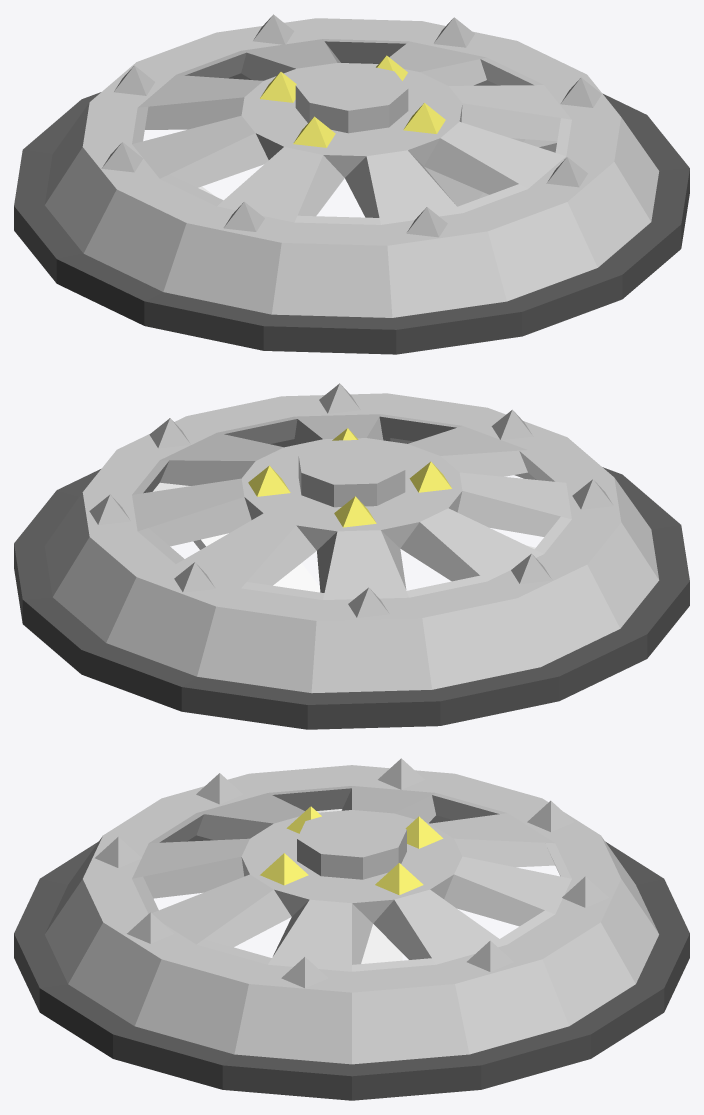
Rendered from Shield_22_d_metal.fbx.
The picture shows the model from 3 angles, top to bottom: view 1: azimuth 30°, elevation 25°; view 2: azimuth 150°, elevation 25°; view 3: azimuth 270°, elevation 25°; orthographic projection.
Visible parts, largest first — view 1: Circle.189, Circle.172, Cone.276, Plane.149, Cone.268, Cone.265, Cone.267; view 2: Circle.189, Circle.172, Cone.276, Plane.149, Cone.268, Cone.267, Cone.266; view 3: Circle.189, Circle.172, Cone.276, Plane.149, Cone.265, Cone.266, Cone.267.
Boxes of the visible parts, <box> form: Circle.189: <box>45,18,659,317</box>; Circle.172: <box>14,92,689,354</box>; Cone.276: <box>102,14,601,237</box>; Plane.149: <box>198,138,557,206</box>; Cone.268: <box>293,116,335,147</box>; Cone.265: <box>403,103,445,133</box>; Cone.267: <box>260,72,296,102</box>; Circle.189: <box>44,393,659,693</box>; Circle.172: <box>14,467,689,729</box>; Cone.276: <box>89,383,613,617</box>; Plane.149: <box>153,482,535,592</box>; Cone.268: <box>409,461,451,492</box>; Cone.267: <box>334,496,376,527</box>; Cone.266: <box>248,465,290,496</box>; Circle.189: <box>45,765,658,1064</box>; Circle.172: <box>14,841,689,1100</box>; Cone.276: <box>95,758,608,987</box>; Plane.149: <box>316,809,402,963</box>; Cone.265: <box>260,853,308,885</box>; Cone.266: <box>375,863,423,895</box>; Cone.267: <box>405,816,443,848</box>.
Bounding box in the file's own units: 55 × 17.06 × 55.
